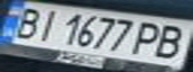1: (54, 11, 84, 47)
6: (72, 12, 100, 50)
7: (112, 16, 139, 54), (93, 15, 118, 52)
B: (145, 22, 193, 60), (3, 5, 48, 39)
I: (27, 7, 63, 43)
P: (127, 19, 172, 57)
